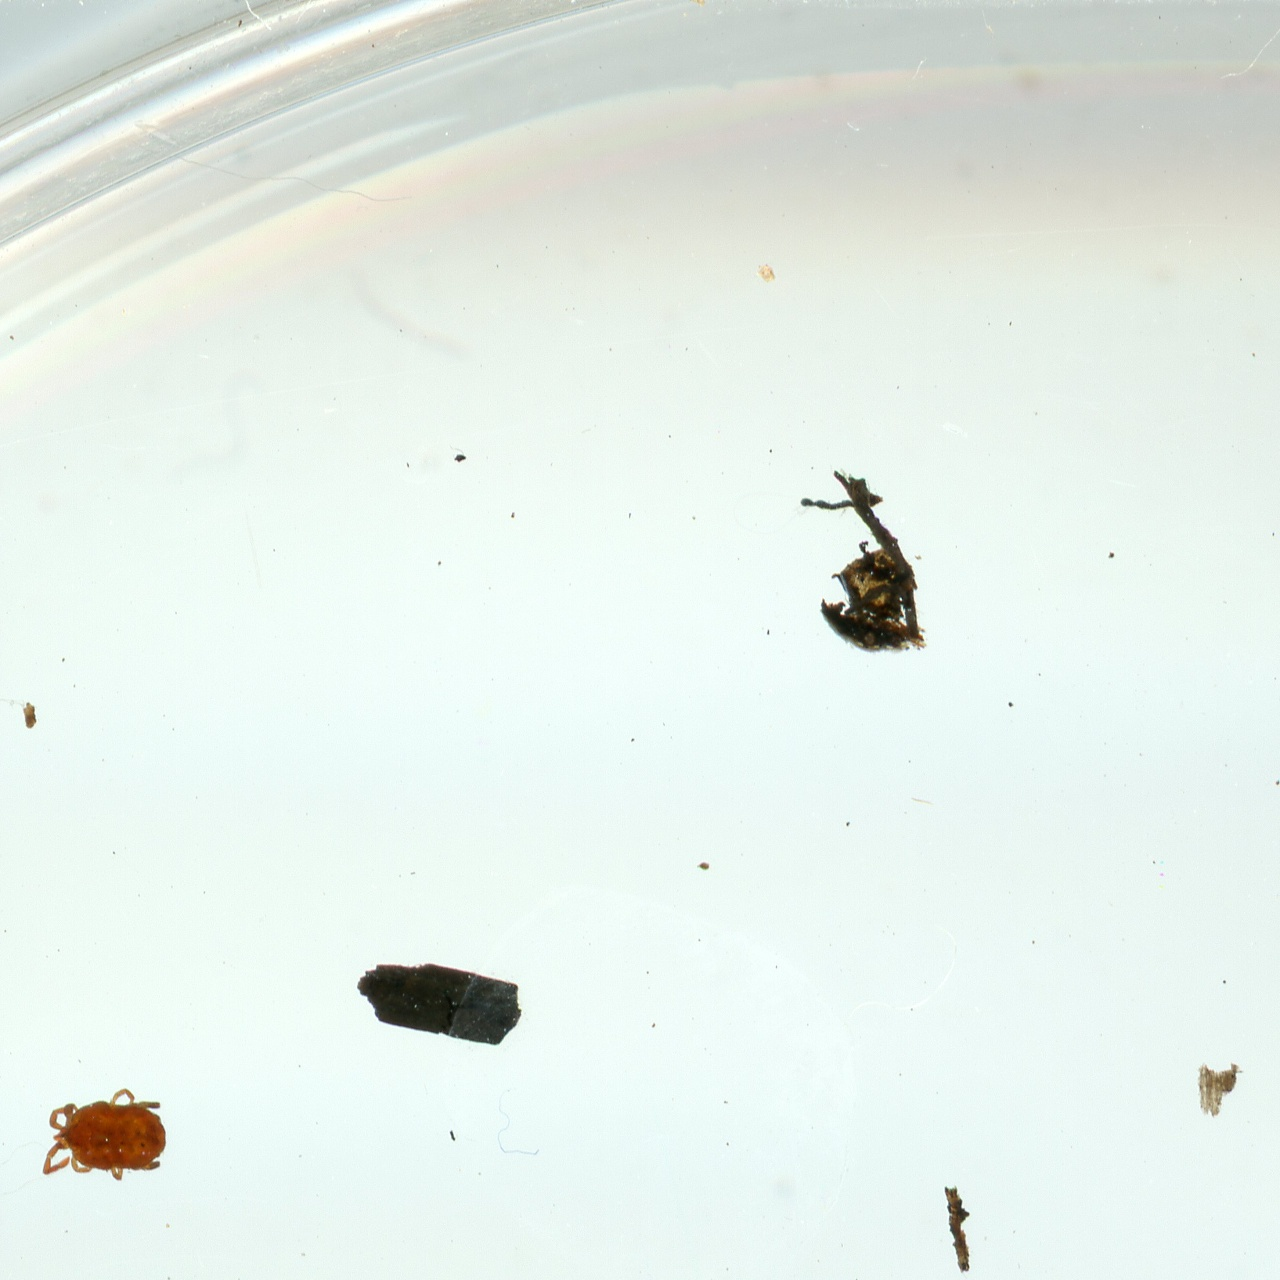arthropod: (36, 1085, 171, 1184)
